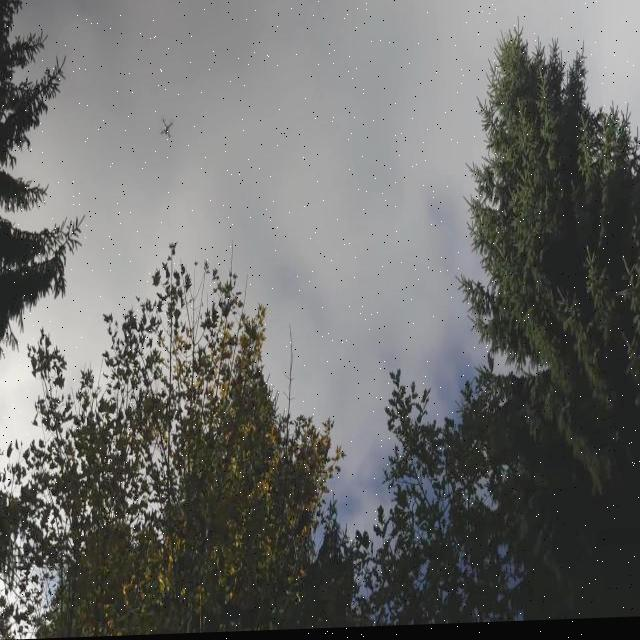drone: (159, 115, 173, 141)
